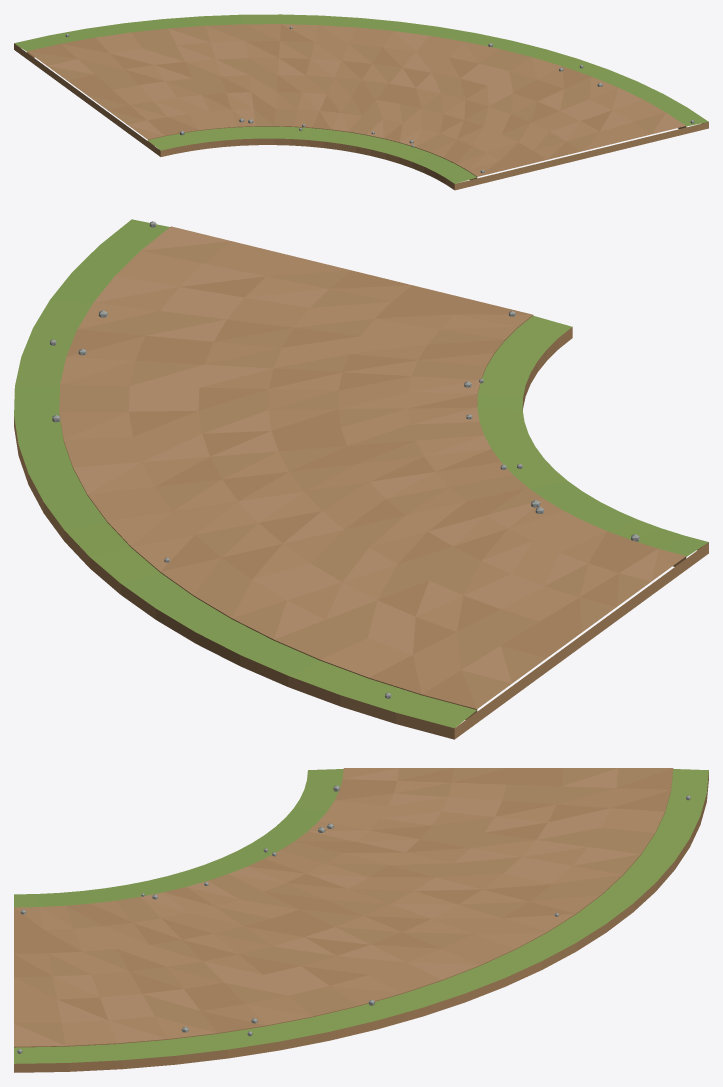
Rendered from dirt_curve.glb.
The picture shows the model from 3 angles, top to bottom: view 1: azimuth 30°, elevation 25°; view 2: azimuth 150°, elevation 25°; view 3: azimuth 270°, elevation 25°; orthographic projection. The views are drawn at different scales.
Parts seen in each view (by area): view 1: Body.007; view 2: Body.007; view 3: Body.007.
Part boxes in pixels (<box>): Body.007: <box>14,14,708,190</box>; Body.007: <box>14,219,708,739</box>; Body.007: <box>14,768,708,1072</box>.
Size of the model in its own units: 12.65 by 0.3123 by 12.65.
